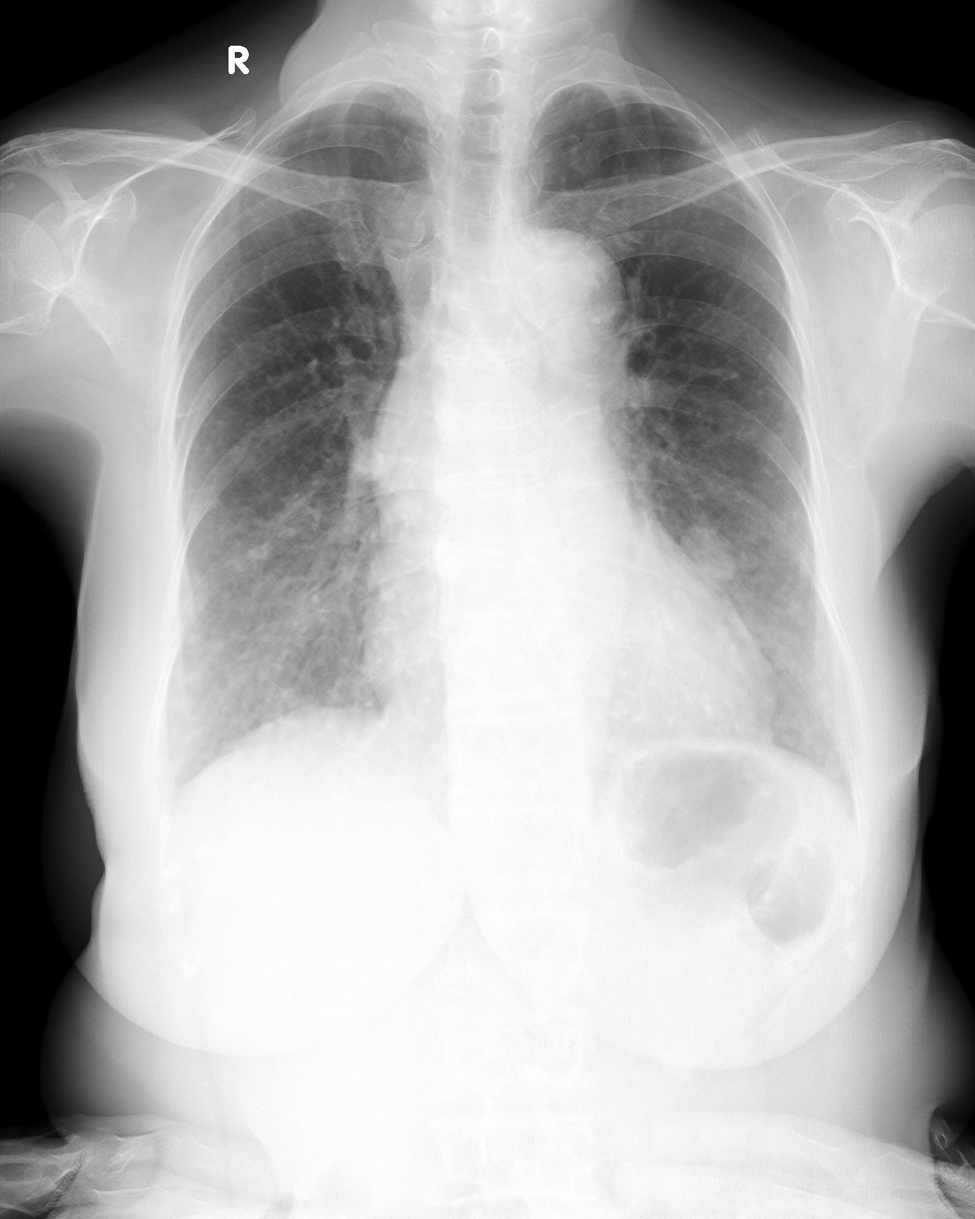Aortic enlargement: (498, 229, 623, 404)
Cardiomegaly: (364, 567, 776, 726)
